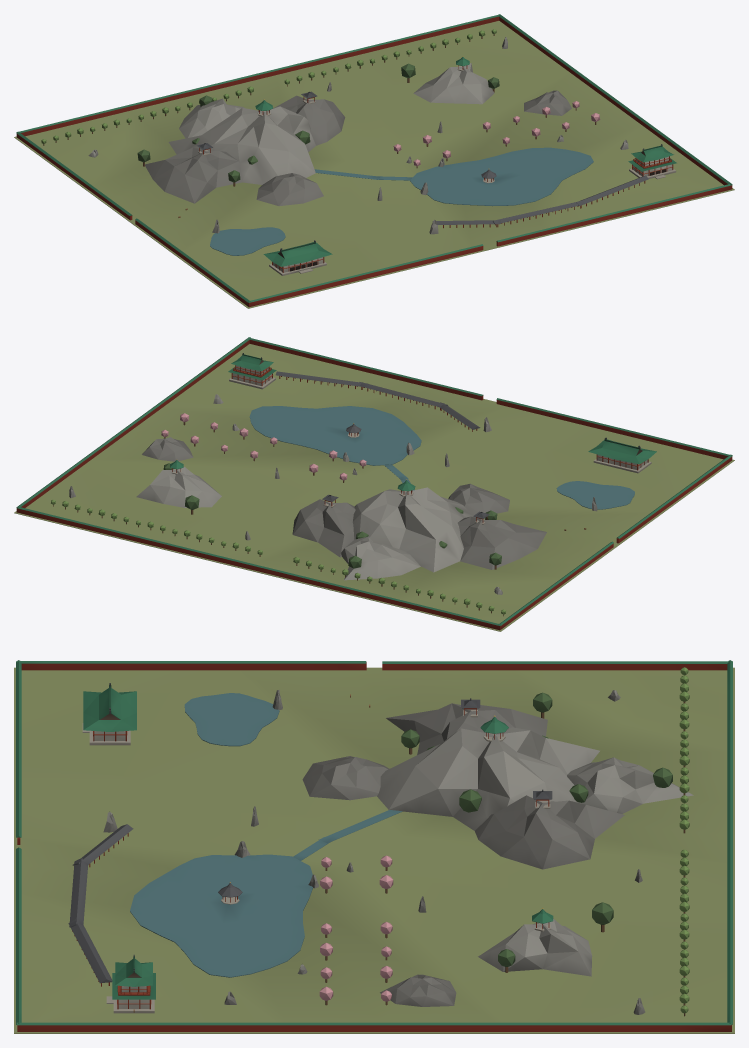
File: genyue.glb
The picture shows the model from 3 angles, top to bottom: view 1: azimuth 30°, elevation 25°; view 2: azimuth 150°, elevation 25°; view 3: azimuth 270°, elevation 25°; orthographic projection. The views are drawn at different scales.
Visible parts, largest first — view 1: p0_hills, p2_life, p1_halls; view 2: p0_hills, p2_life, p1_halls; view 3: p0_hills, p2_life, p1_halls.
Part boxes in pixels (x1,y1,x2,y2): p0_hills: (14,14,734,308); p2_life: (41,29,676,266); p1_halls: (88,37,676,275); p0_hills: (14,337,734,631); p2_life: (51,353,656,616); p1_halls: (69,365,651,594); p0_hills: (14,660,734,1033); p2_life: (83,667,689,1016); p1_halls: (68,689,645,1014).
Size of the model in its own units: 360 by 37.82 by 300.
